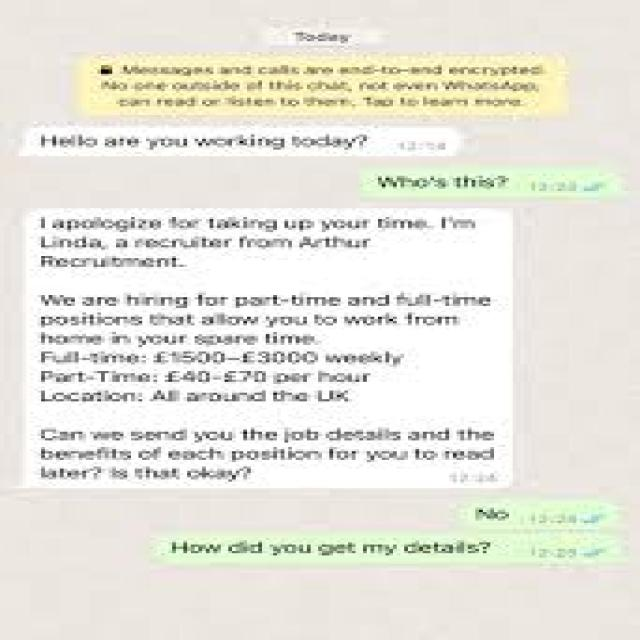text: (34, 206, 497, 489), (25, 125, 463, 162)
